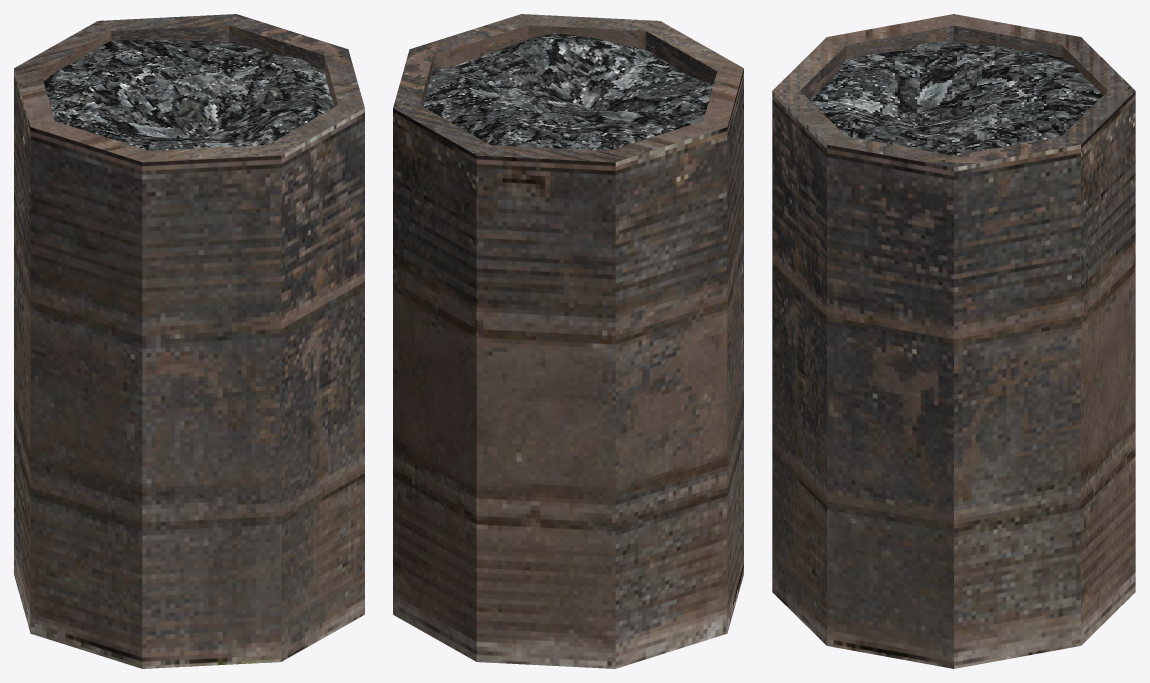
The model's file is OilBarrel2.glb.
The picture shows the model from 3 angles, left to right: view 1: azimuth 30°, elevation 25°; view 2: azimuth 150°, elevation 25°; view 3: azimuth 270°, elevation 25°; orthographic projection.
Parts seen in each view (by area): view 1: BarrelMesh, BarrelMesh.001; view 2: BarrelMesh, BarrelMesh.001; view 3: BarrelMesh, BarrelMesh.001.
Part boxes in pixels (x1,y1,x2,y2): BarrelMesh: (14,14,364,668); BarrelMesh.001: (43,39,334,148); BarrelMesh: (393,14,743,668); BarrelMesh.001: (434,33,713,150); BarrelMesh: (772,14,1135,668); BarrelMesh.001: (810,41,1103,153).
Bounding box in the file's own units: 1.52 × 2.31 × 1.52.
4 materials, 4 textured.
